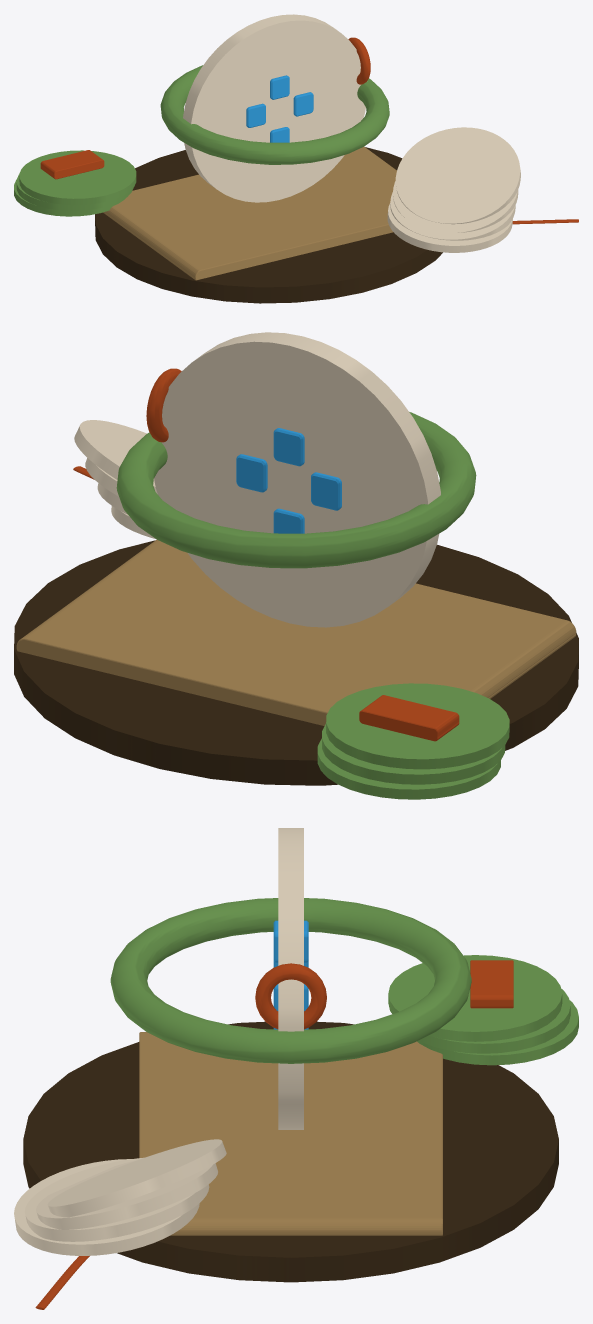
The model's file is 0758_先秦图鉴_战国钱币.glb.
3 renders of one model, top to bottom at view 1: azimuth 30°, elevation 25°; view 2: azimuth 150°, elevation 25°; view 3: azimuth 270°, elevation 25°, orthographic. The views are drawn at different scales.
Parts seen in each view (by area): view 1: card_0758; view 2: card_0758; view 3: card_0758.
Part boxes in pixels (x1,y1,x2,y2): card_0758: (14,14,578,303); card_0758: (14,332,578,799); card_0758: (14,828,578,1309).
Bounding box in the file's own units: 2.06 × 1 × 1.6.
